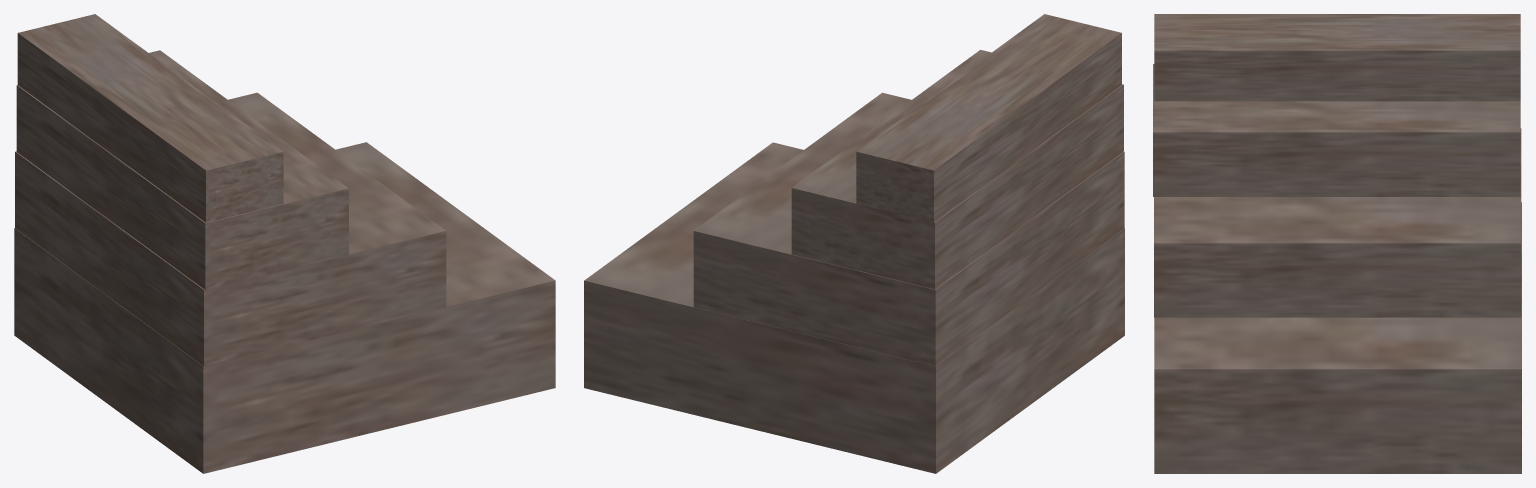
The model's file is Stairs.fbx.
3 views of the same model, side by side, from view 1: azimuth 30°, elevation 25°; view 2: azimuth 150°, elevation 25°; view 3: azimuth 270°, elevation 25° (orthographic). The views are drawn at different scales.
Visible parts, largest first — view 1: Cube, Cube.001, Cube.003, Cube.002; view 2: Cube, Cube.001, Cube.003, Cube.002; view 3: Cube, Cube.001, Cube.002, Cube.003.
Boxes of the visible parts, x1=… form: Cube: x1=14, y1=142, x2=555, y2=473; Cube.001: x1=15, y1=92, x2=446, y2=366; Cube.003: x1=17, y1=14, x2=283, y2=222; Cube.002: x1=16, y1=50, x2=348, y2=289; Cube: x1=584, y1=142, x2=1124, y2=473; Cube.001: x1=693, y1=92, x2=1124, y2=366; Cube.003: x1=856, y1=14, x2=1121, y2=222; Cube.002: x1=791, y1=50, x2=1123, y2=289; Cube: x1=1154, y1=202, x2=1521, y2=473; Cube.001: x1=1154, y1=128, x2=1521, y2=317; Cube.002: x1=1153, y1=64, x2=1520, y2=196; Cube.003: x1=1154, y1=14, x2=1520, y2=101.
Size of the model in its own units: 685 by 562 by 639.
Materials: 4 (4 with a texture image).
